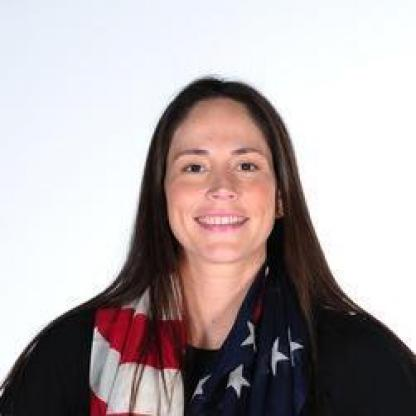long-hair: (106, 260, 346, 304)
